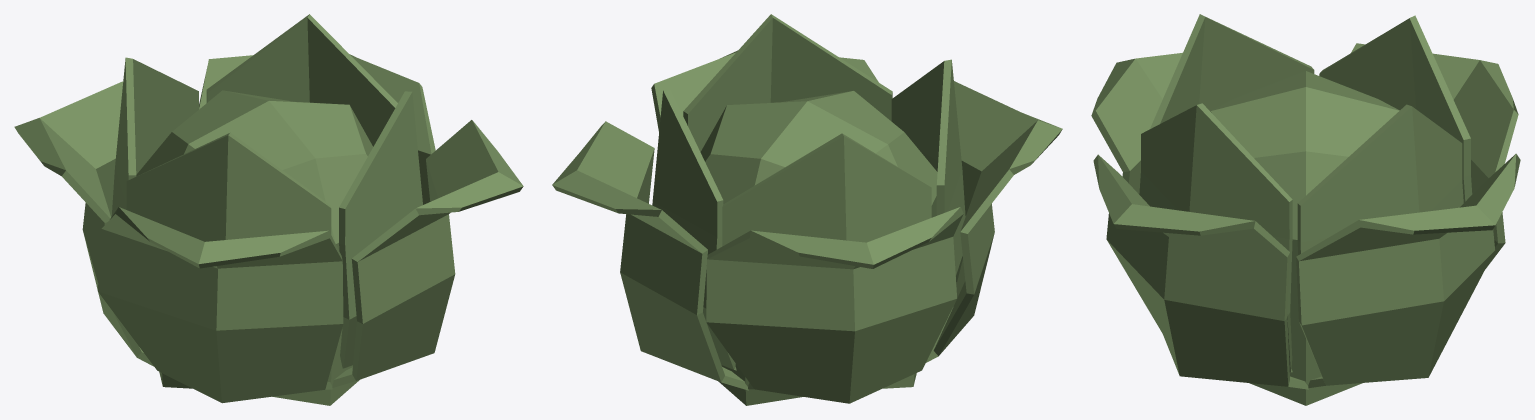
The model's file is Lettuce.glb.
The picture shows the model from 3 angles, left to right: view 1: azimuth 30°, elevation 25°; view 2: azimuth 150°, elevation 25°; view 3: azimuth 270°, elevation 25°; orthographic projection. The views are drawn at different scales.
Visible parts, largest first — view 1: Lettuce_Whole; view 2: Lettuce_Whole; view 3: Lettuce_Whole.
Boxes of the visible parts, <box> form: Lettuce_Whole: <box>14,14,523,405</box>; Lettuce_Whole: <box>552,14,1062,405</box>; Lettuce_Whole: <box>1091,14,1520,405</box>.
Bounding box in the file's own units: 1.66 × 1.37 × 1.66.
